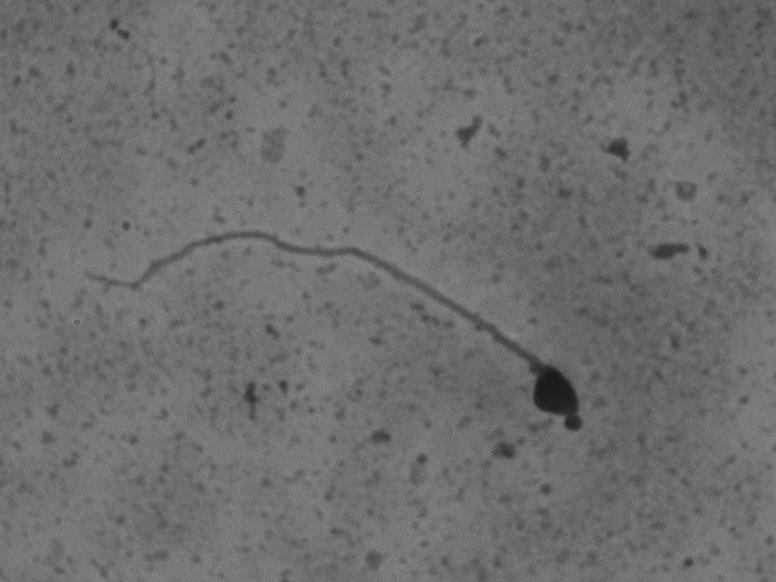Abnormal: (89, 162, 627, 435)
